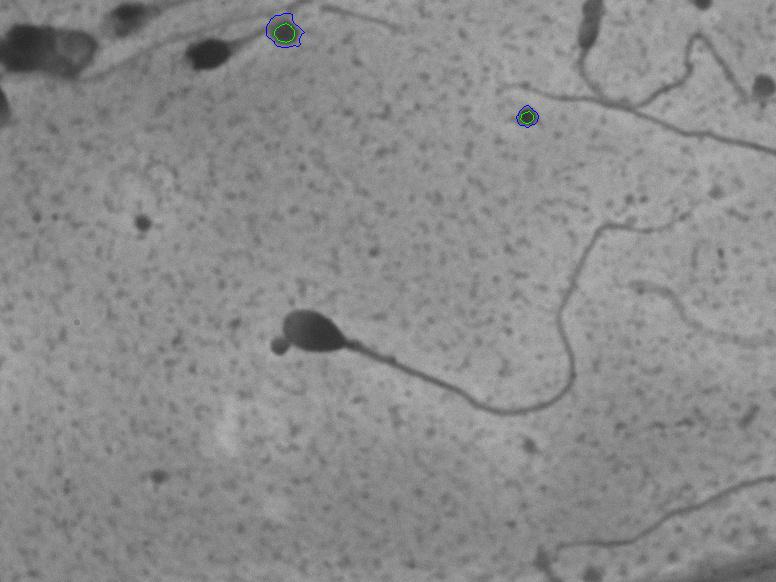Normal: (272, 196, 695, 431)
